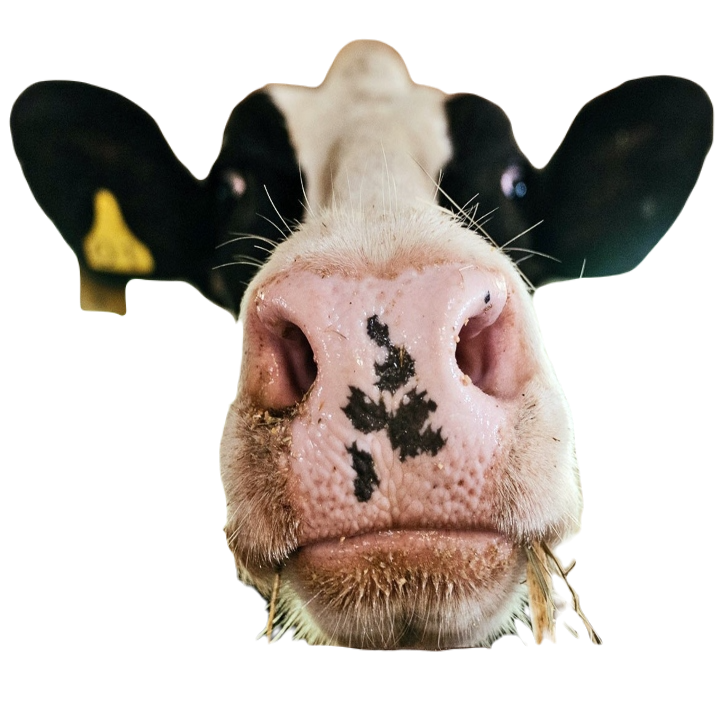Cow: (7, 40, 713, 655)
